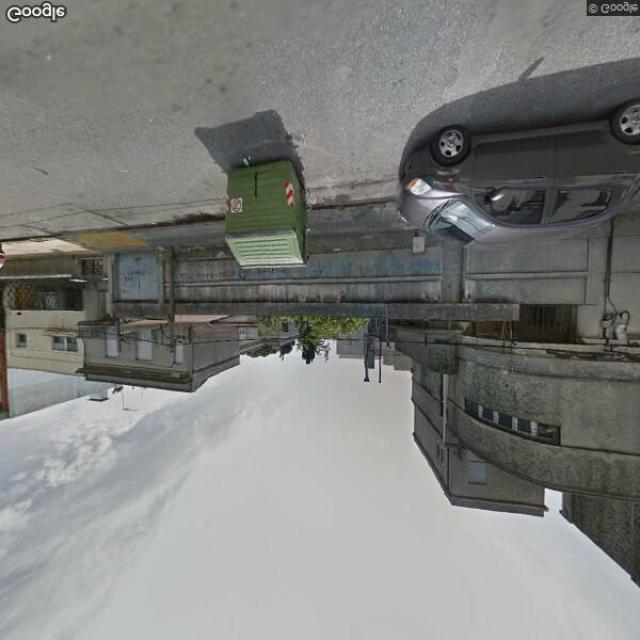garbage container: (220, 151, 319, 279)
